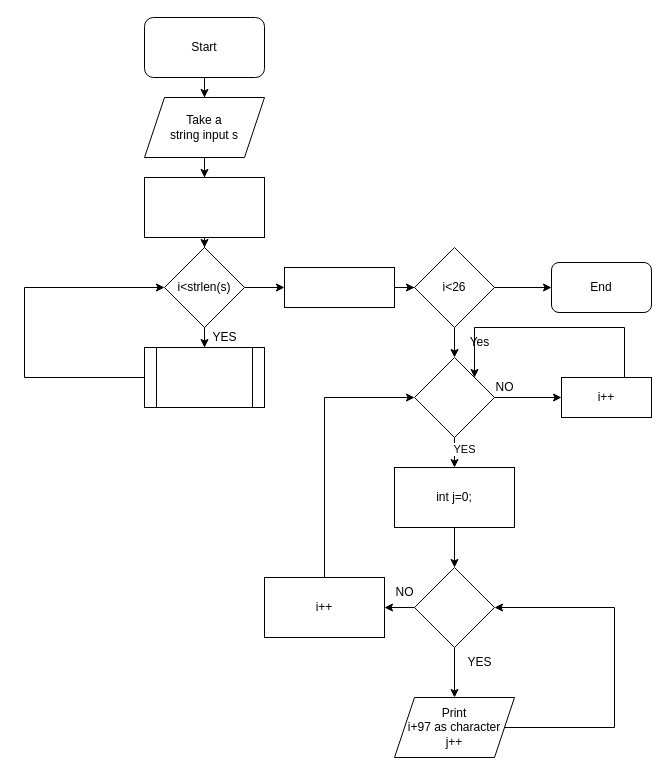
Some shapes in this 669 by 775 pixel diagram are drawn without their labels. Here are the shapes that lost their labels. From the top down, the centre of each, then its label:
(x=204, y=207): Int i=0; int arr[26]={0}
(x=339, y=287): i=0
(x=204, y=377): arr[s[i]-97]++; i++
(x=454, y=397): arr[i]>0
(x=454, y=607): j<arr[i]
